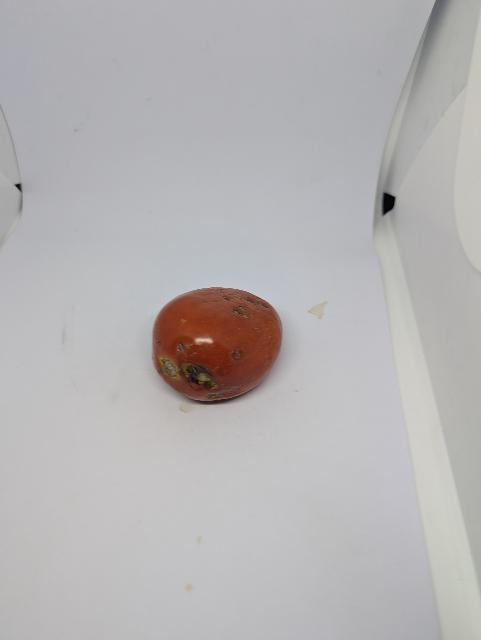defect: (151, 285, 285, 405)
